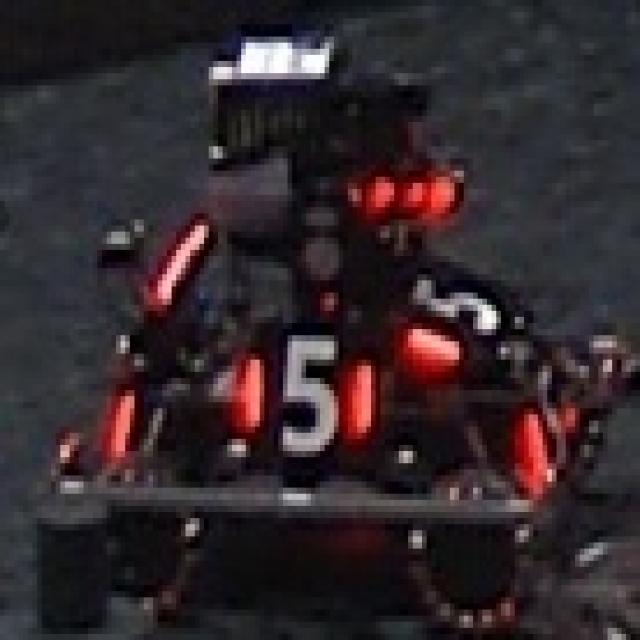R5: (237, 323, 376, 457)
